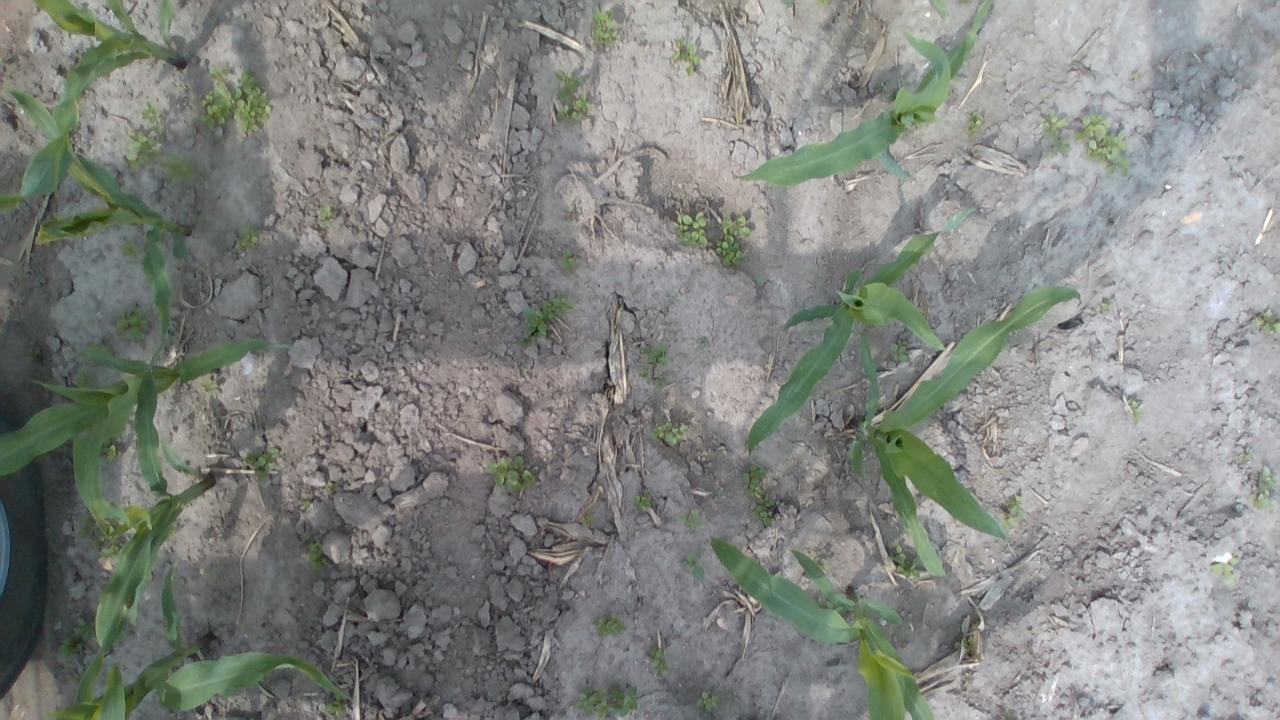Maize: (846, 284, 1084, 579), (744, 209, 975, 459), (9, 84, 194, 389), (70, 351, 214, 720), (736, 0, 994, 187), (49, 561, 350, 720), (0, 337, 299, 478), (708, 536, 936, 720), (0, 0, 185, 218), (928, 0, 949, 19)
Weeds: (191, 62, 272, 138), (1075, 114, 1130, 178), (518, 292, 576, 350), (78, 512, 127, 563), (552, 70, 596, 122), (576, 687, 640, 720), (484, 456, 538, 494), (714, 216, 752, 268), (122, 128, 164, 172), (110, 305, 154, 345), (669, 35, 704, 80), (1040, 112, 1072, 160), (159, 152, 202, 184), (1252, 464, 1280, 512), (242, 446, 280, 481), (892, 543, 928, 579), (674, 210, 706, 248), (302, 534, 330, 576), (592, 8, 621, 48), (651, 421, 689, 446), (740, 464, 769, 496), (1209, 557, 1242, 585), (646, 643, 672, 678), (1000, 493, 1024, 528), (679, 551, 706, 582), (751, 496, 776, 528), (138, 100, 167, 127), (638, 345, 672, 367), (593, 613, 624, 637), (235, 222, 261, 250), (70, 616, 97, 642), (57, 638, 81, 666), (694, 690, 722, 714), (109, 624, 134, 650), (886, 337, 910, 363), (1260, 307, 1280, 336), (120, 236, 146, 258), (99, 437, 122, 461), (325, 693, 346, 718), (680, 507, 705, 528), (558, 247, 576, 272), (966, 112, 984, 136), (810, 554, 830, 574), (1236, 446, 1258, 464), (1126, 397, 1144, 418), (78, 367, 96, 386), (954, 635, 974, 652), (630, 494, 650, 509), (874, 80, 889, 96), (319, 207, 333, 224), (710, 489, 726, 503), (638, 366, 651, 383), (199, 380, 217, 392), (166, 520, 178, 538), (654, 374, 666, 391), (71, 671, 82, 688), (1100, 299, 1112, 312), (1127, 72, 1142, 82), (580, 516, 592, 527), (816, 0, 831, 8), (782, 0, 794, 8), (958, 0, 975, 5)
